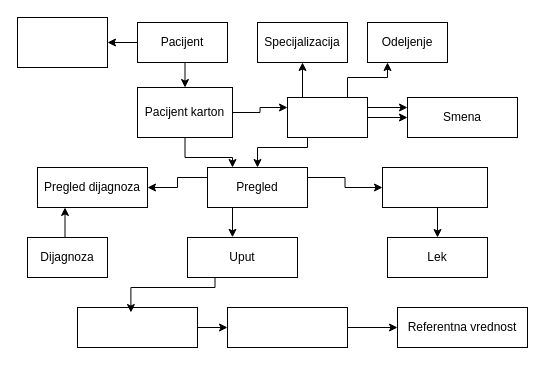
Image size: 545x365. Some labels were removed from this diagram. The centre of each missing label's shape, as x and y in pixels:
"Laboratorijski nalaz" belongs at (x=137, y=327).
"Lekar" belongs at (x=327, y=117).
"Rezultat" belongs at (x=287, y=327).
"Terapija" belongs at (x=435, y=187).
"Zdravstvena knjižica" belongs at (x=62, y=42).
